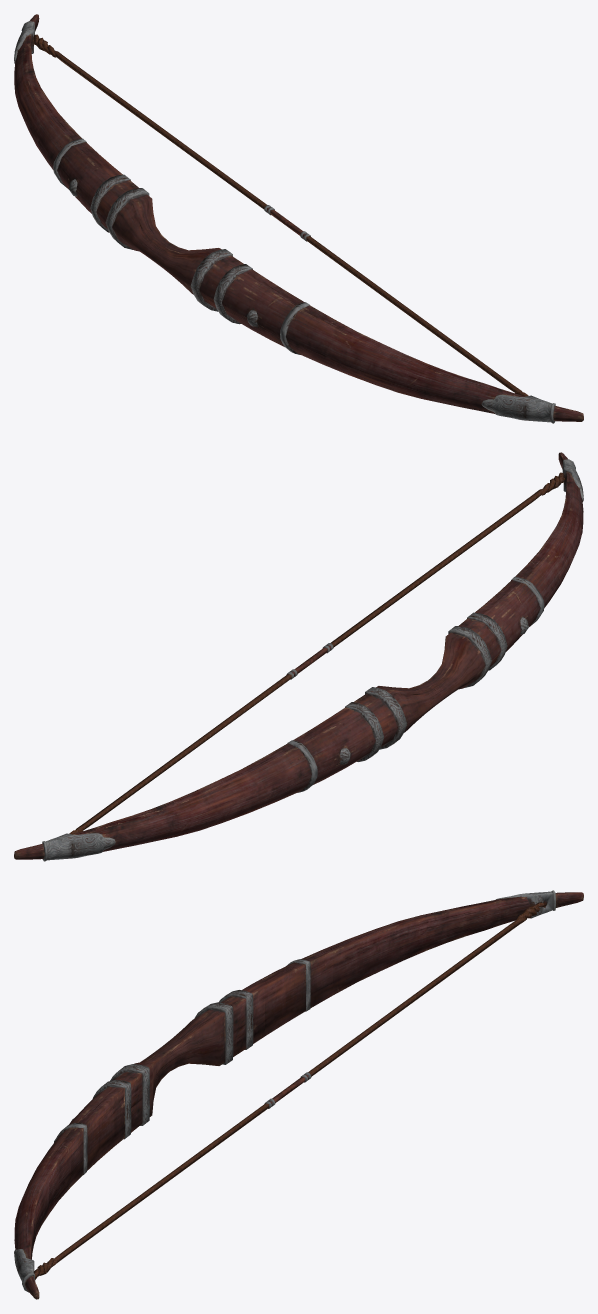
3 views of the same model, one above another, from view 1: azimuth 30°, elevation 25°; view 2: azimuth 150°, elevation 25°; view 3: azimuth 330°, elevation 25° (orthographic).
Visible parts, largest first — view 1: WP_A_1420; view 2: WP_A_1420; view 3: WP_A_1420.
Part boxes in pixels (left/top/right/bottom): WP_A_1420: left=14, top=14, right=583, bottom=423; WP_A_1420: left=14, top=452, right=583, bottom=861; WP_A_1420: left=14, top=890, right=583, bottom=1299.
Size of the model in its own units: 42.52 by 14.14 by 251.
Materials: 1 (1 with a texture image).
